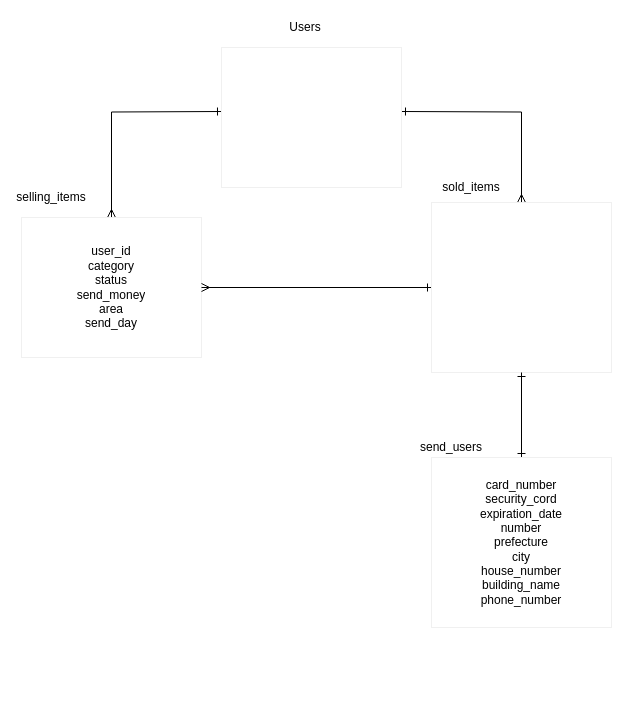
The diagram is 629 pixels wide and 704 high, and some of its shapes have lost their labels. The shapes that lost their labels are listed below. From the top down, each one's box as (x1, y1, x2, y2) in pixels, then its label:
(220, 46, 402, 188): nickname password email last_name first_name b_year b_month b_day
(430, 202, 612, 372): user_id item_id
